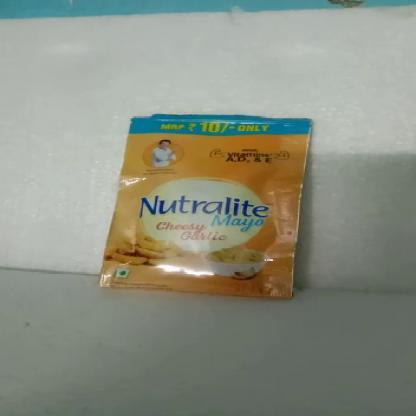Nutralite CHEESY GARLIC MAYO 30g: (129, 116, 302, 298)
